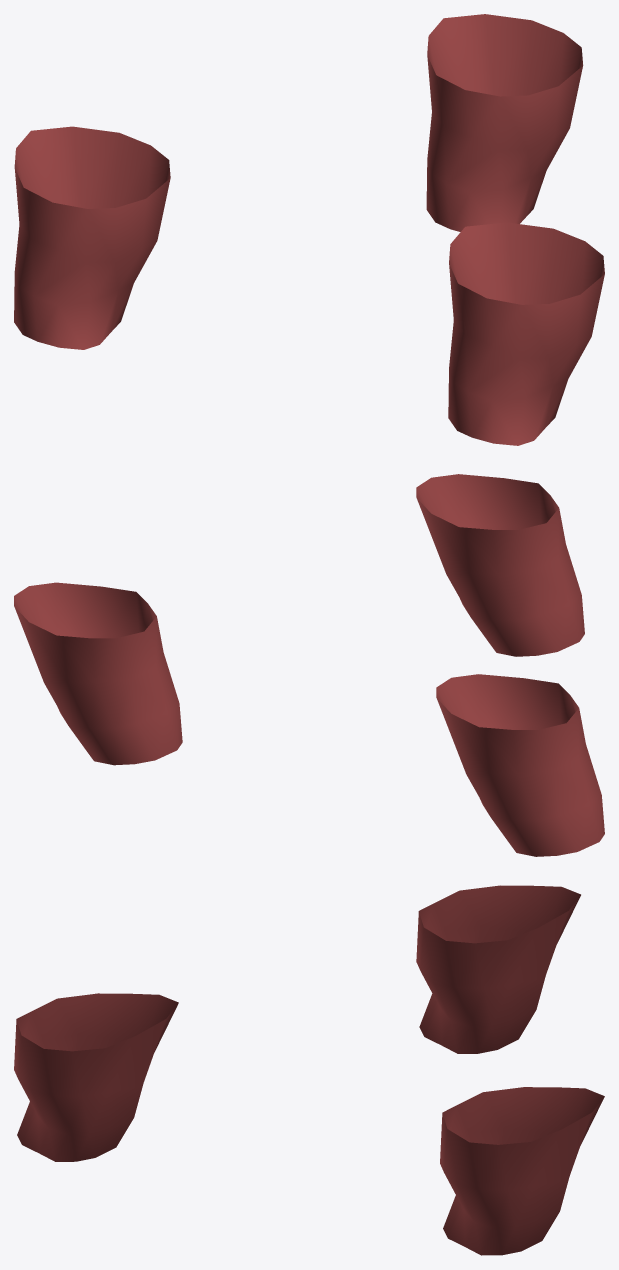
The picture shows the model from 3 angles, top to bottom: view 1: azimuth 30°, elevation 25°; view 2: azimuth 150°, elevation 25°; view 3: azimuth 270°, elevation 25°; orthographic projection. The views are drawn at different scales.
Visible parts, largest first — view 1: Object_7; view 2: Object_7; view 3: Object_7.
Part boxes in pixels (box(x1,y1,x2,y2)): Object_7: box(14, 14, 604, 445); Object_7: box(14, 474, 604, 856); Object_7: box(14, 885, 604, 1255).
Size of the model in its own units: 102 by 26.24 by 93.71.
